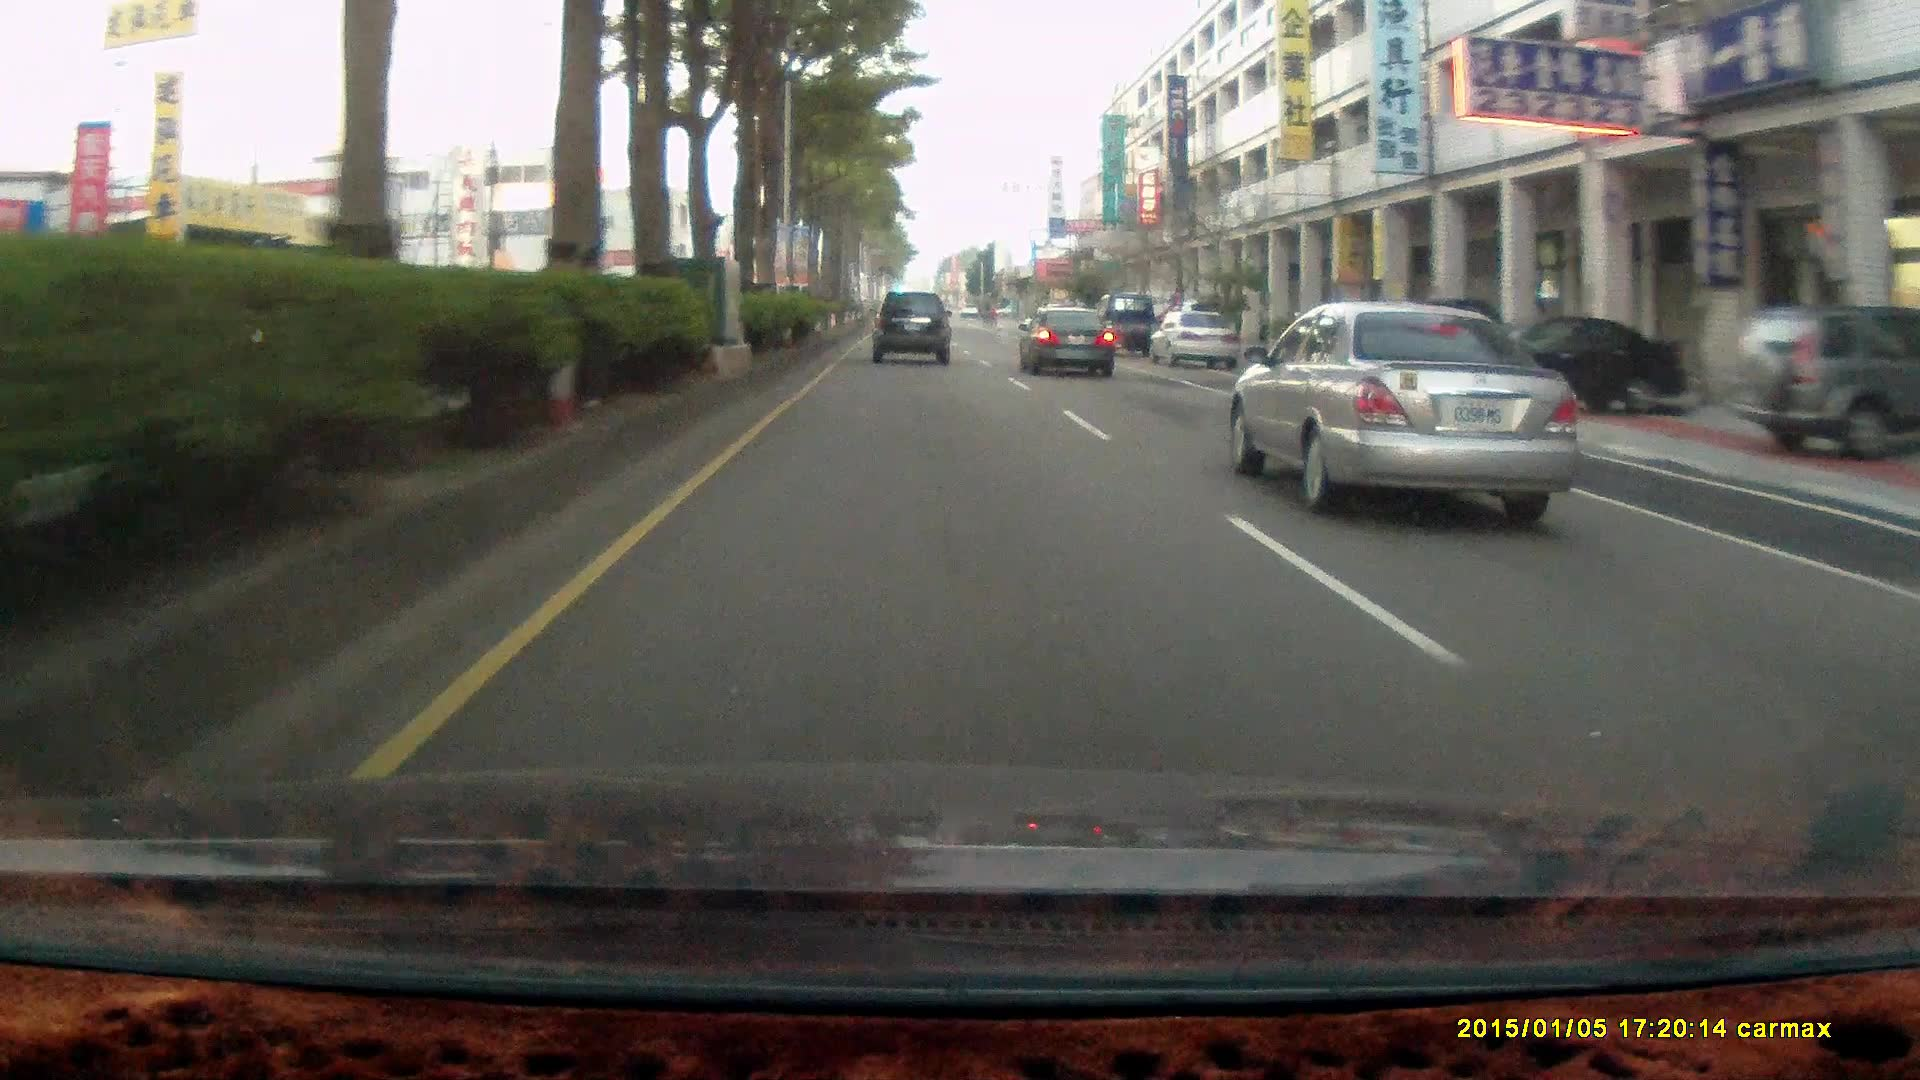vehicle: (1226, 295, 1588, 521), (1727, 301, 1920, 459), (1729, 301, 1920, 458), (1429, 313, 1698, 415), (1432, 313, 1693, 414), (1017, 305, 1120, 378), (1015, 305, 1114, 377), (872, 290, 953, 368), (869, 290, 952, 361), (1145, 309, 1240, 368), (1153, 315, 1246, 368), (1092, 287, 1156, 351)
